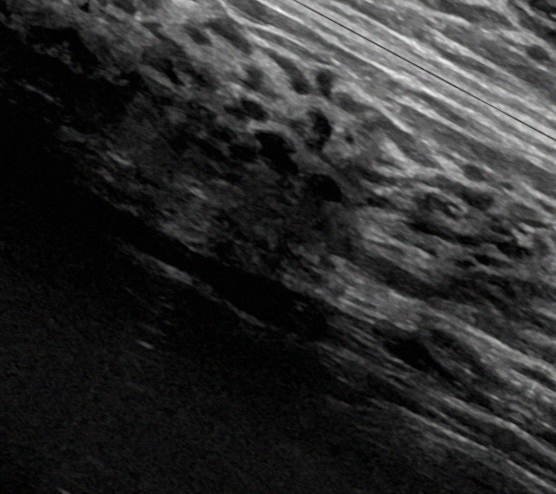Normal: (3, 0, 556, 464)
